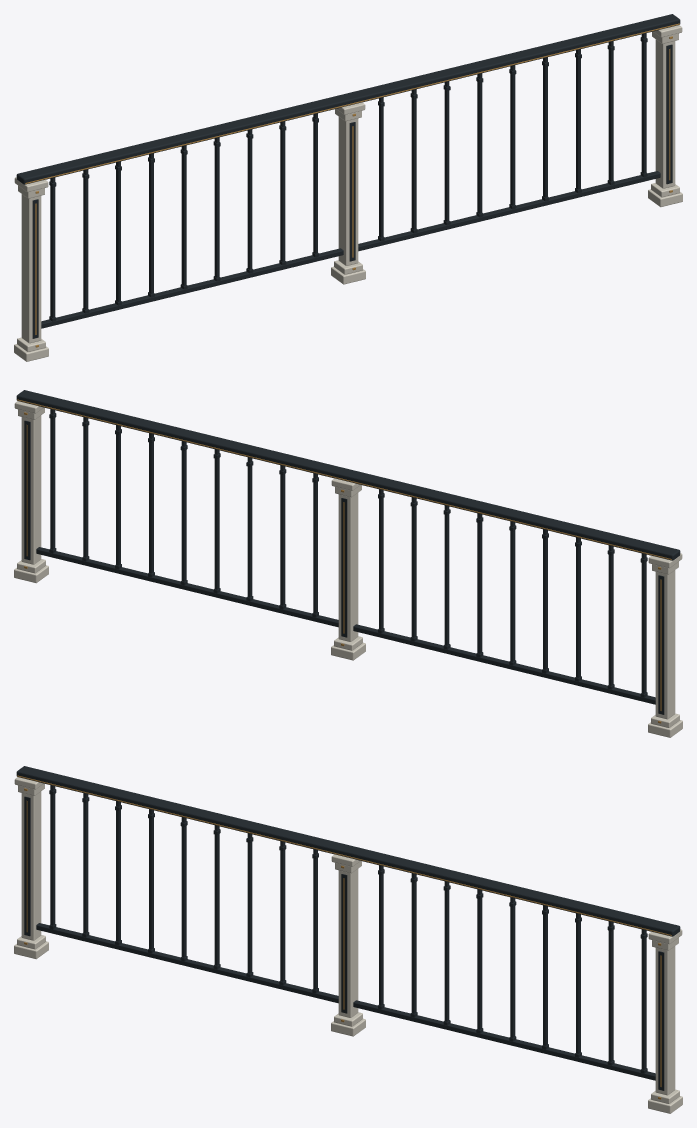
File: SM_Aurelion_KIT_Z08Guardrail.fbx
3 views of the same model, one above another, from view 1: azimuth 30°, elevation 25°; view 2: azimuth 150°, elevation 25°; view 3: azimuth 330°, elevation 25° (orthographic).
Parts seen in each view (by area): view 1: SM_Aurelion_KIT_Z08Guardrail; view 2: SM_Aurelion_KIT_Z08Guardrail; view 3: SM_Aurelion_KIT_Z08Guardrail.
Boxes of the visible parts, x1,y1,x2,y2 form: SM_Aurelion_KIT_Z08Guardrail: (14,14,682,361); SM_Aurelion_KIT_Z08Guardrail: (14,390,682,737); SM_Aurelion_KIT_Z08Guardrail: (14,766,682,1113).
Bounding box in the file's own units: 400 × 13.51 × 106.
